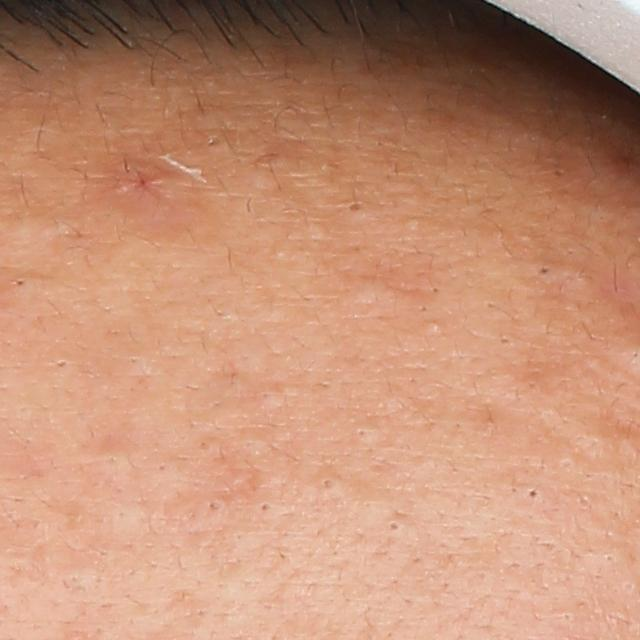comedo: (340, 195, 368, 216), (424, 321, 447, 338), (386, 517, 406, 535), (533, 261, 553, 279), (9, 276, 30, 293), (51, 356, 71, 373), (523, 485, 541, 503), (256, 498, 274, 515)
